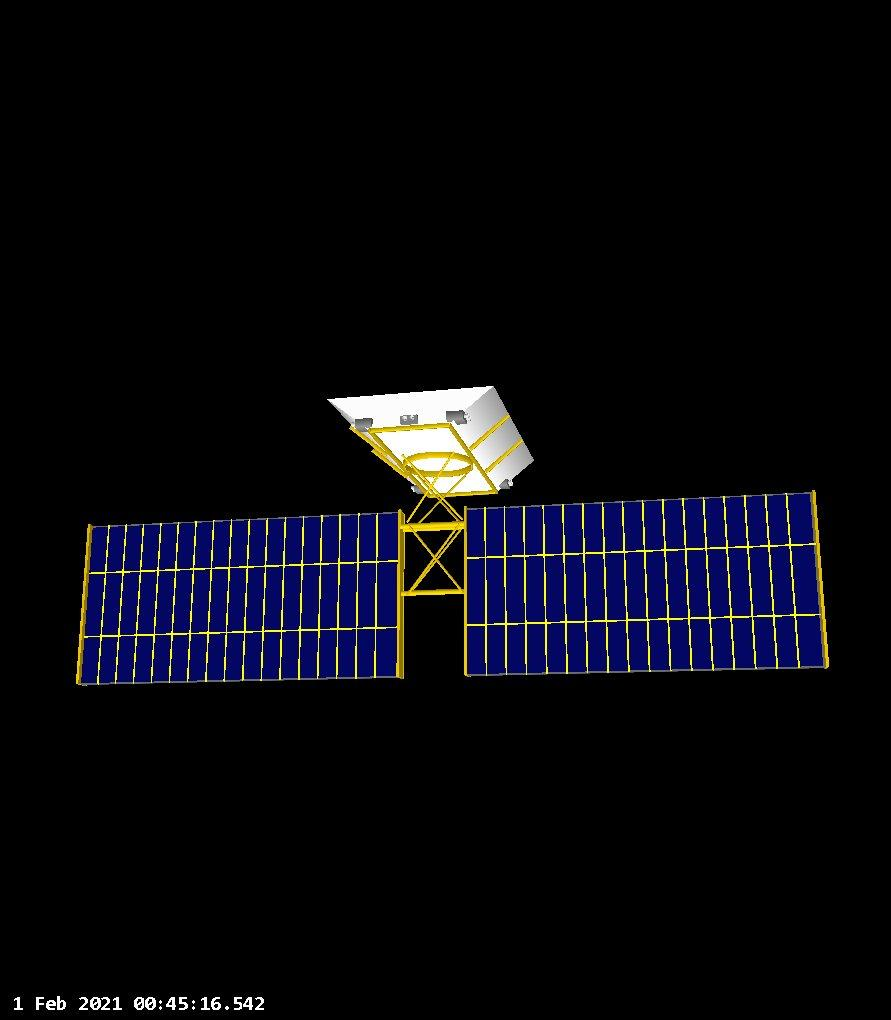body: (324, 384, 552, 502)
solar: (458, 485, 834, 683), (69, 506, 415, 688)
thruster: (462, 412, 470, 419), (409, 414, 416, 422), (401, 415, 408, 422), (350, 421, 357, 427), (466, 417, 472, 423), (506, 478, 513, 483), (410, 485, 416, 490), (508, 482, 514, 486), (353, 425, 357, 429), (412, 489, 416, 493)
